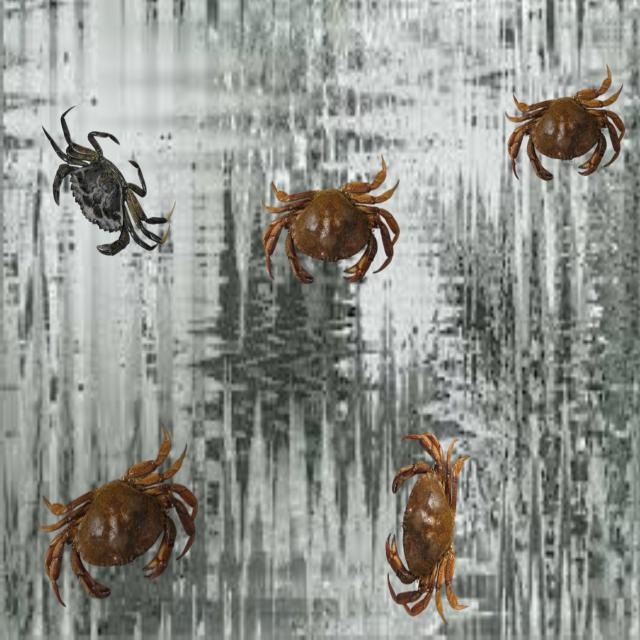European_Green_Crab: (24, 82, 184, 297)
